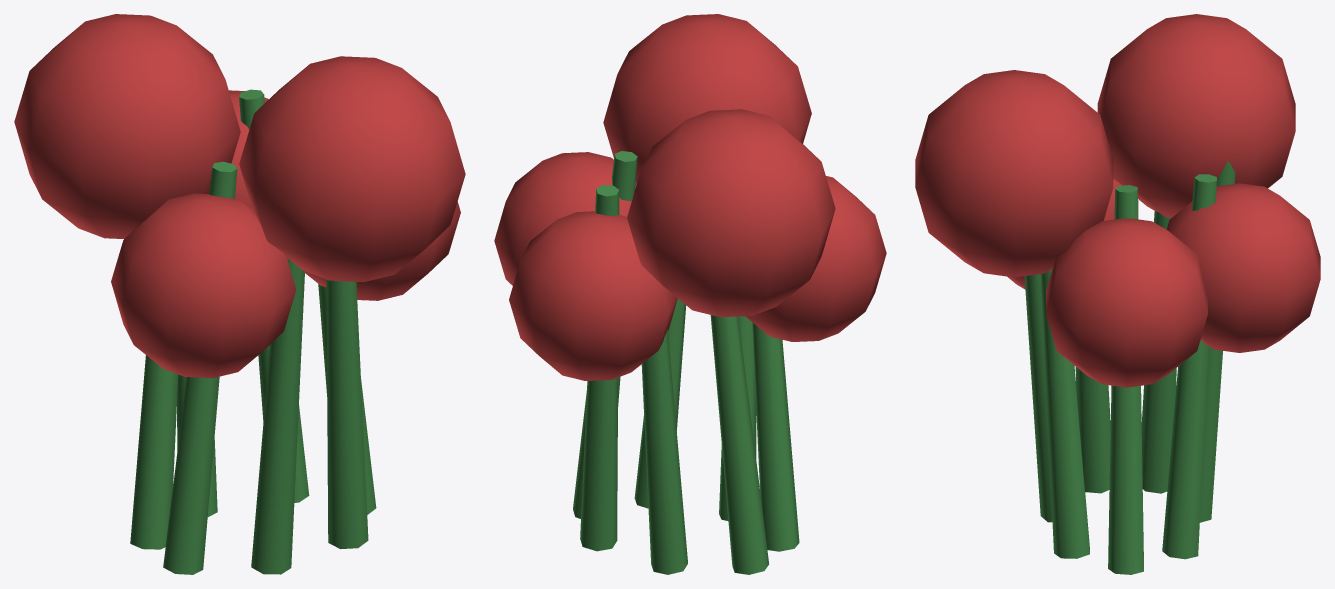
The model's file is crop_strawberry_mature.glb.
3 renders of one model, left to right at view 1: azimuth 30°, elevation 25°; view 2: azimuth 150°, elevation 25°; view 3: azimuth 270°, elevation 25°, orthographic. The views are drawn at different scales.
Visible parts, largest first — view 1: produce_1, produce_3, produce_2, stem_2, stem_1, stem_3, stem_4, produce_0, stem_6, stem_0, produce_4, stem_5; view 2: produce_3, produce_4, produce_1, produce_2, stem_4, produce_0, stem_5, stem_3, stem_6, stem_1, stem_0, stem_2; view 3: produce_1, produce_3, produce_0, produce_4, stem_6, stem_1, stem_0, stem_4, stem_2, stem_3, stem_5.
Part boxes in pixels (<box>): produce_1: <box>239,56,465,281</box>; produce_3: <box>14,14,240,238</box>; produce_2: <box>111,193,296,378</box>; stem_2: <box>251,258,304,574</box>; stem_1: <box>326,279,368,549</box>; stem_3: <box>163,161,237,574</box>; stem_4: <box>130,355,178,549</box>; produce_0: <box>305,201,460,300</box>; stem_6: <box>239,89,309,502</box>; stem_0: <box>318,284,376,514</box>; produce_4: <box>229,90,268,208</box>; stem_5: <box>177,374,217,516</box>; produce_3: <box>627,109,835,317</box>; produce_4: <box>509,211,677,380</box>; produce_1: <box>603,14,811,183</box>; produce_2: <box>745,176,886,341</box>; stem_4: <box>710,315,768,574</box>; produce_0: <box>494,152,636,285</box>; stem_5: <box>641,329,687,574</box>; stem_3: <box>752,322,799,551</box>; stem_6: <box>580,185,619,551</box>; stem_1: <box>634,298,686,508</box>; stem_0: <box>573,151,637,518</box>; stem_2: <box>719,316,756,520</box>; produce_1: <box>915,70,1113,277</box>; produce_3: <box>1097,14,1295,217</box>; produce_0: <box>1046,218,1207,387</box>; produce_4: <box>1166,183,1320,352</box>; stem_6: <box>1162,174,1216,559</box>; stem_1: <box>1040,269,1089,558</box>; stem_0: <box>1108,185,1143,574</box>; stem_4: <box>1141,210,1176,493</box>; stem_2: <box>1024,274,1052,522</box>; stem_3: <box>1075,367,1110,493</box>; stem_5: <box>1200,161,1235,522</box>.
Size of what is drawn, in the model's own units: 0.8523 by 1.08 by 0.856.
